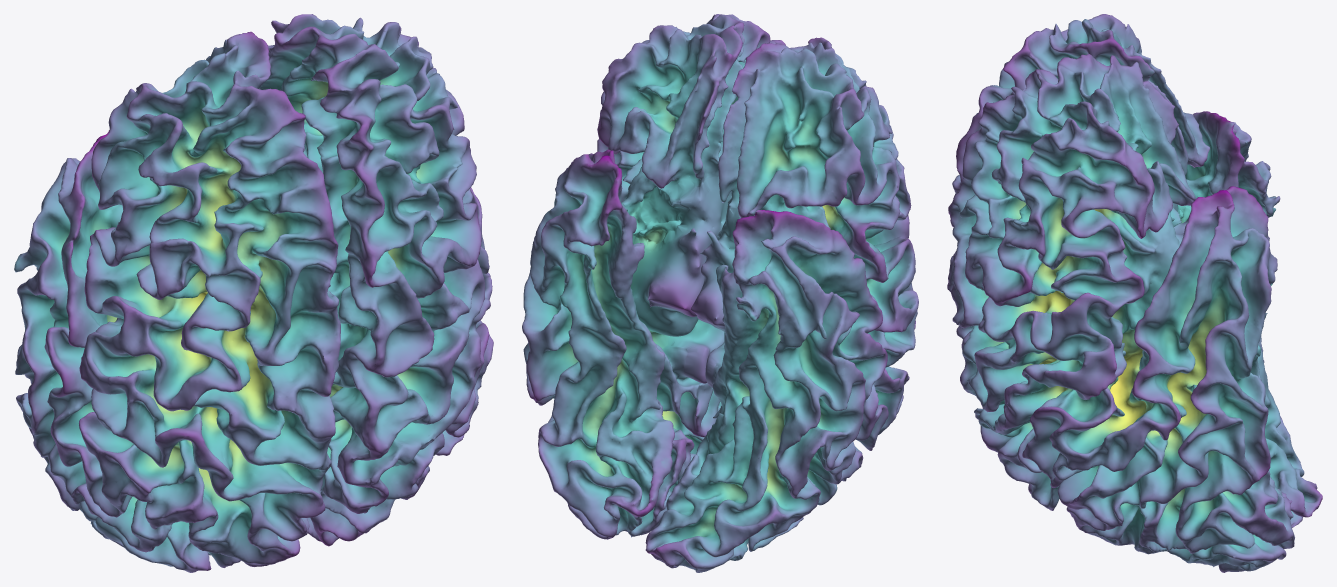
The model's file is brain.glb.
3 renders of one model, left to right at view 1: azimuth 30°, elevation 25°; view 2: azimuth 150°, elevation 25°; view 3: azimuth 270°, elevation 25°, orthographic. The views are drawn at different scales.
Bounding box in the file's own units: 124 × 169 × 114.
